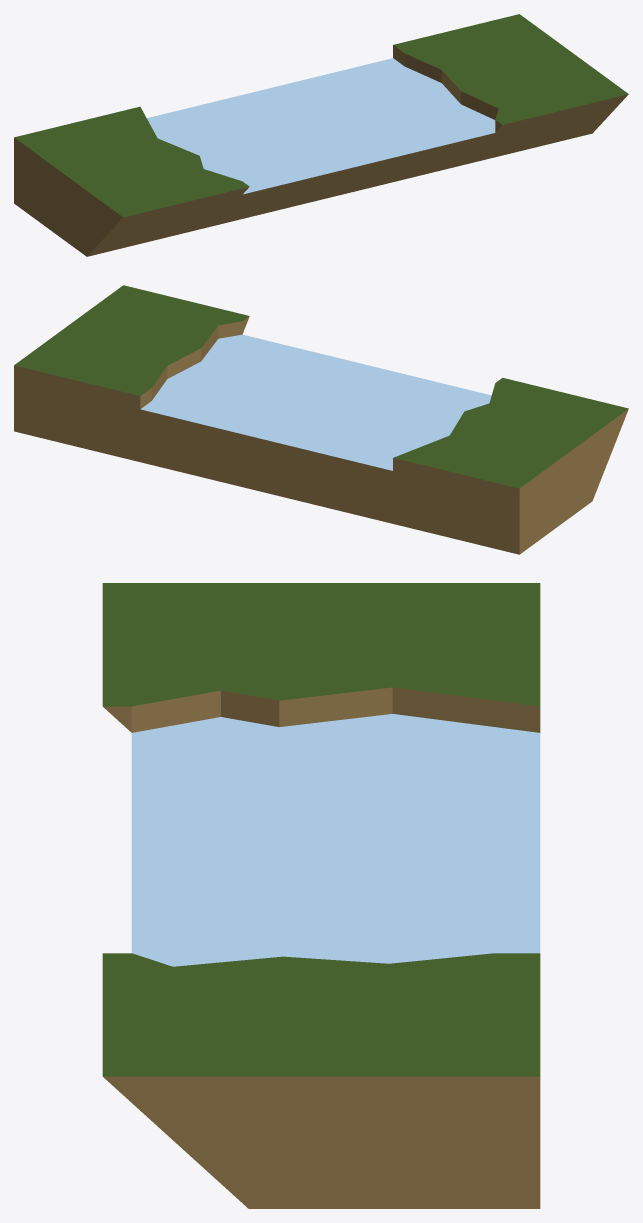
The model's file is Terrain_Tile_Grass_Dirt_Ledge_River_04.fbx.
The picture shows the model from 3 angles, top to bottom: view 1: azimuth 30°, elevation 25°; view 2: azimuth 150°, elevation 25°; view 3: azimuth 270°, elevation 25°; orthographic projection. The views are drawn at different scales.
Parts seen in each view (by area): view 1: Terrain_Tile_Grass_Dirt_Ledge_River_04; view 2: Terrain_Tile_Grass_Dirt_Ledge_River_04; view 3: Terrain_Tile_Grass_Dirt_Ledge_River_04.
Boxes of the visible parts, x1,y1,x2,y2 form: Terrain_Tile_Grass_Dirt_Ledge_River_04: (14, 14, 628, 256); Terrain_Tile_Grass_Dirt_Ledge_River_04: (14, 285, 628, 554); Terrain_Tile_Grass_Dirt_Ledge_River_04: (102, 583, 540, 1208).
Bounding box in the file's own units: 126 × 15.75 × 47.24.
